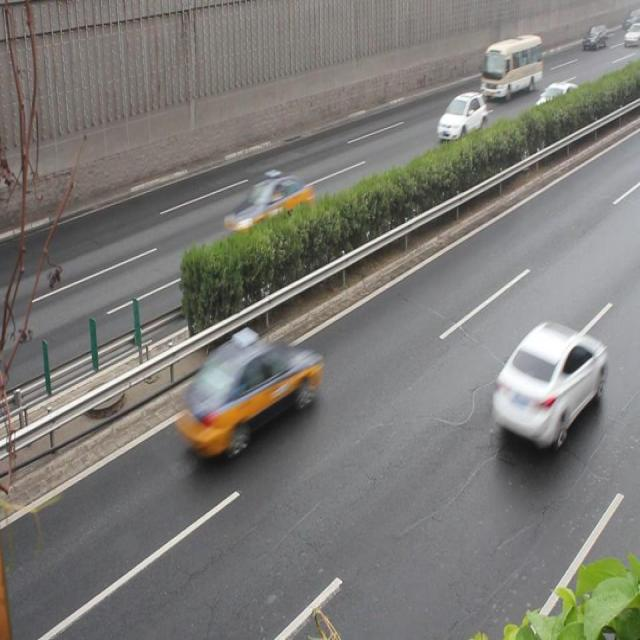car: (176, 335, 323, 452), (491, 320, 606, 443), (223, 172, 312, 242), (434, 92, 487, 142), (528, 82, 578, 125)
van: (480, 33, 541, 97)
